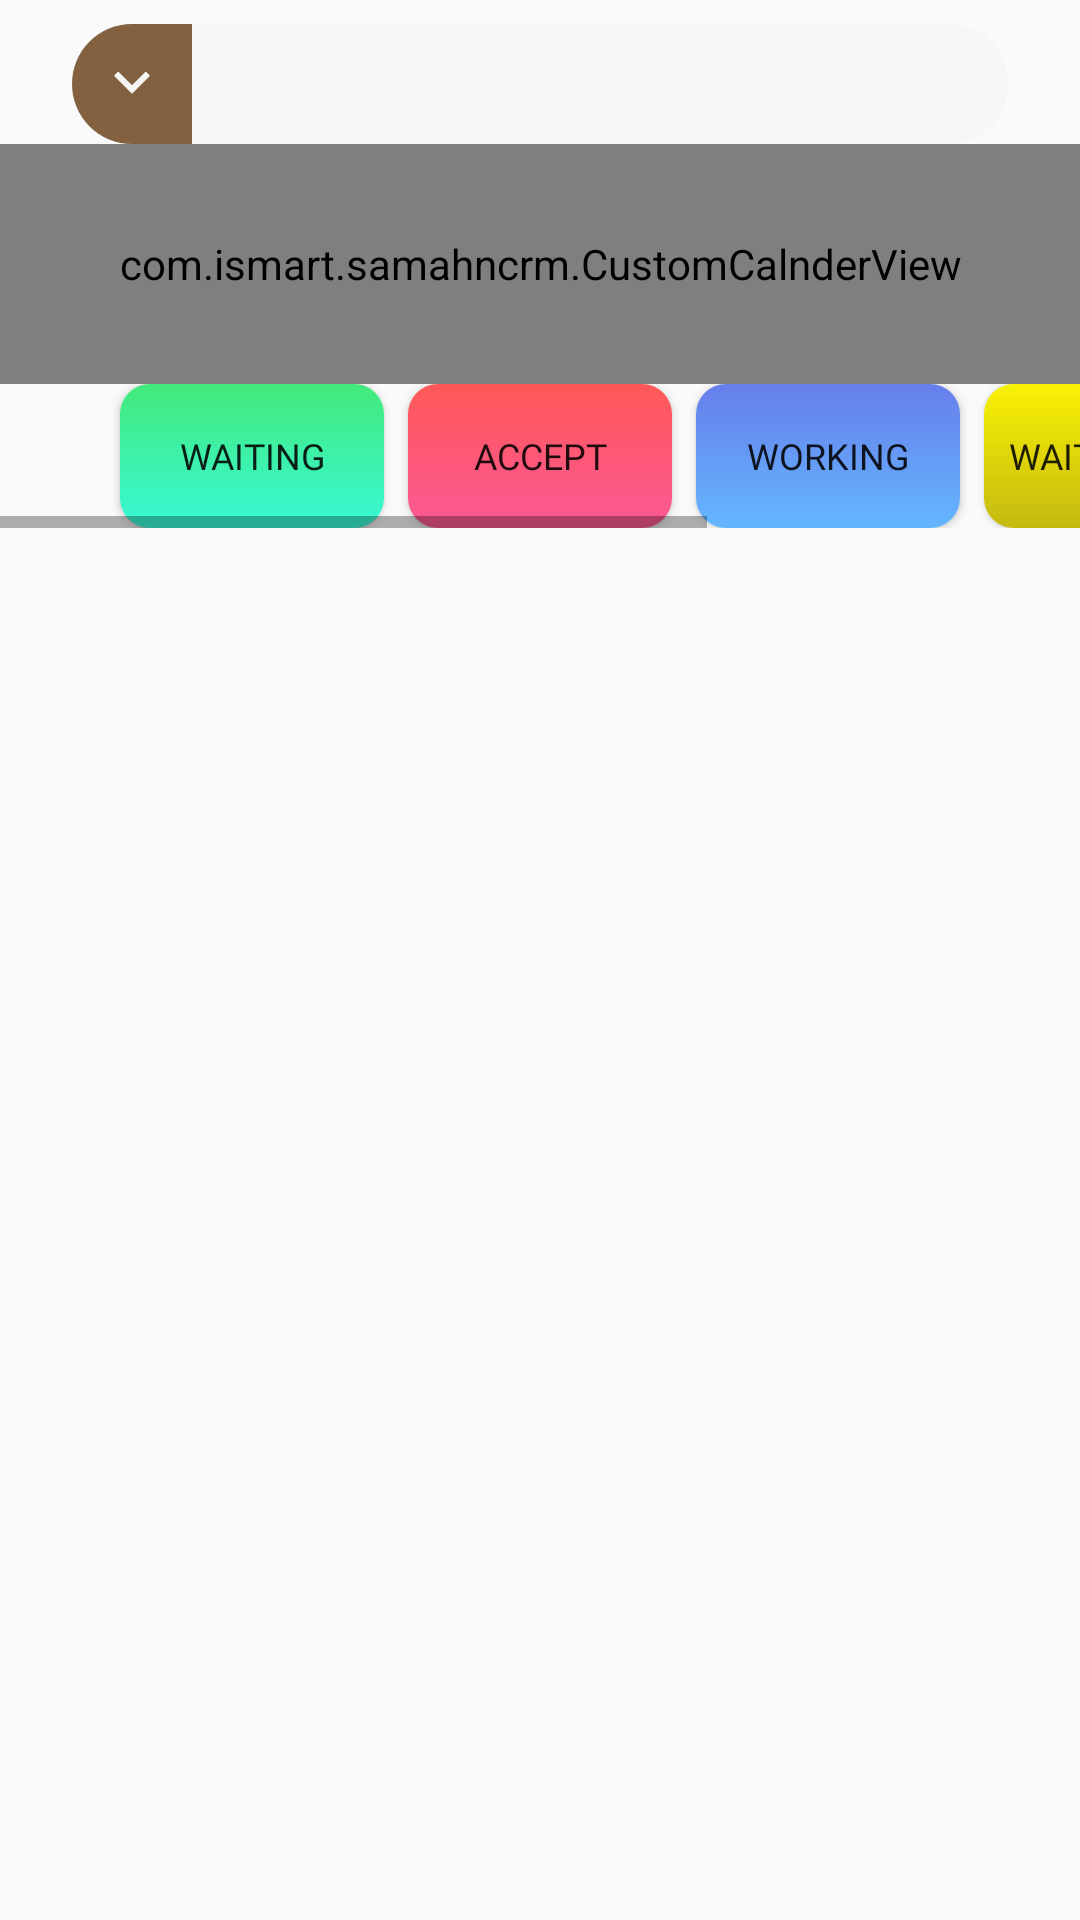

Icon bounding boxes for this 1080×1920 phone screenshot, format (x1, y1, x2, y2):
keyboard arrow down: (72, 24, 192, 144)
